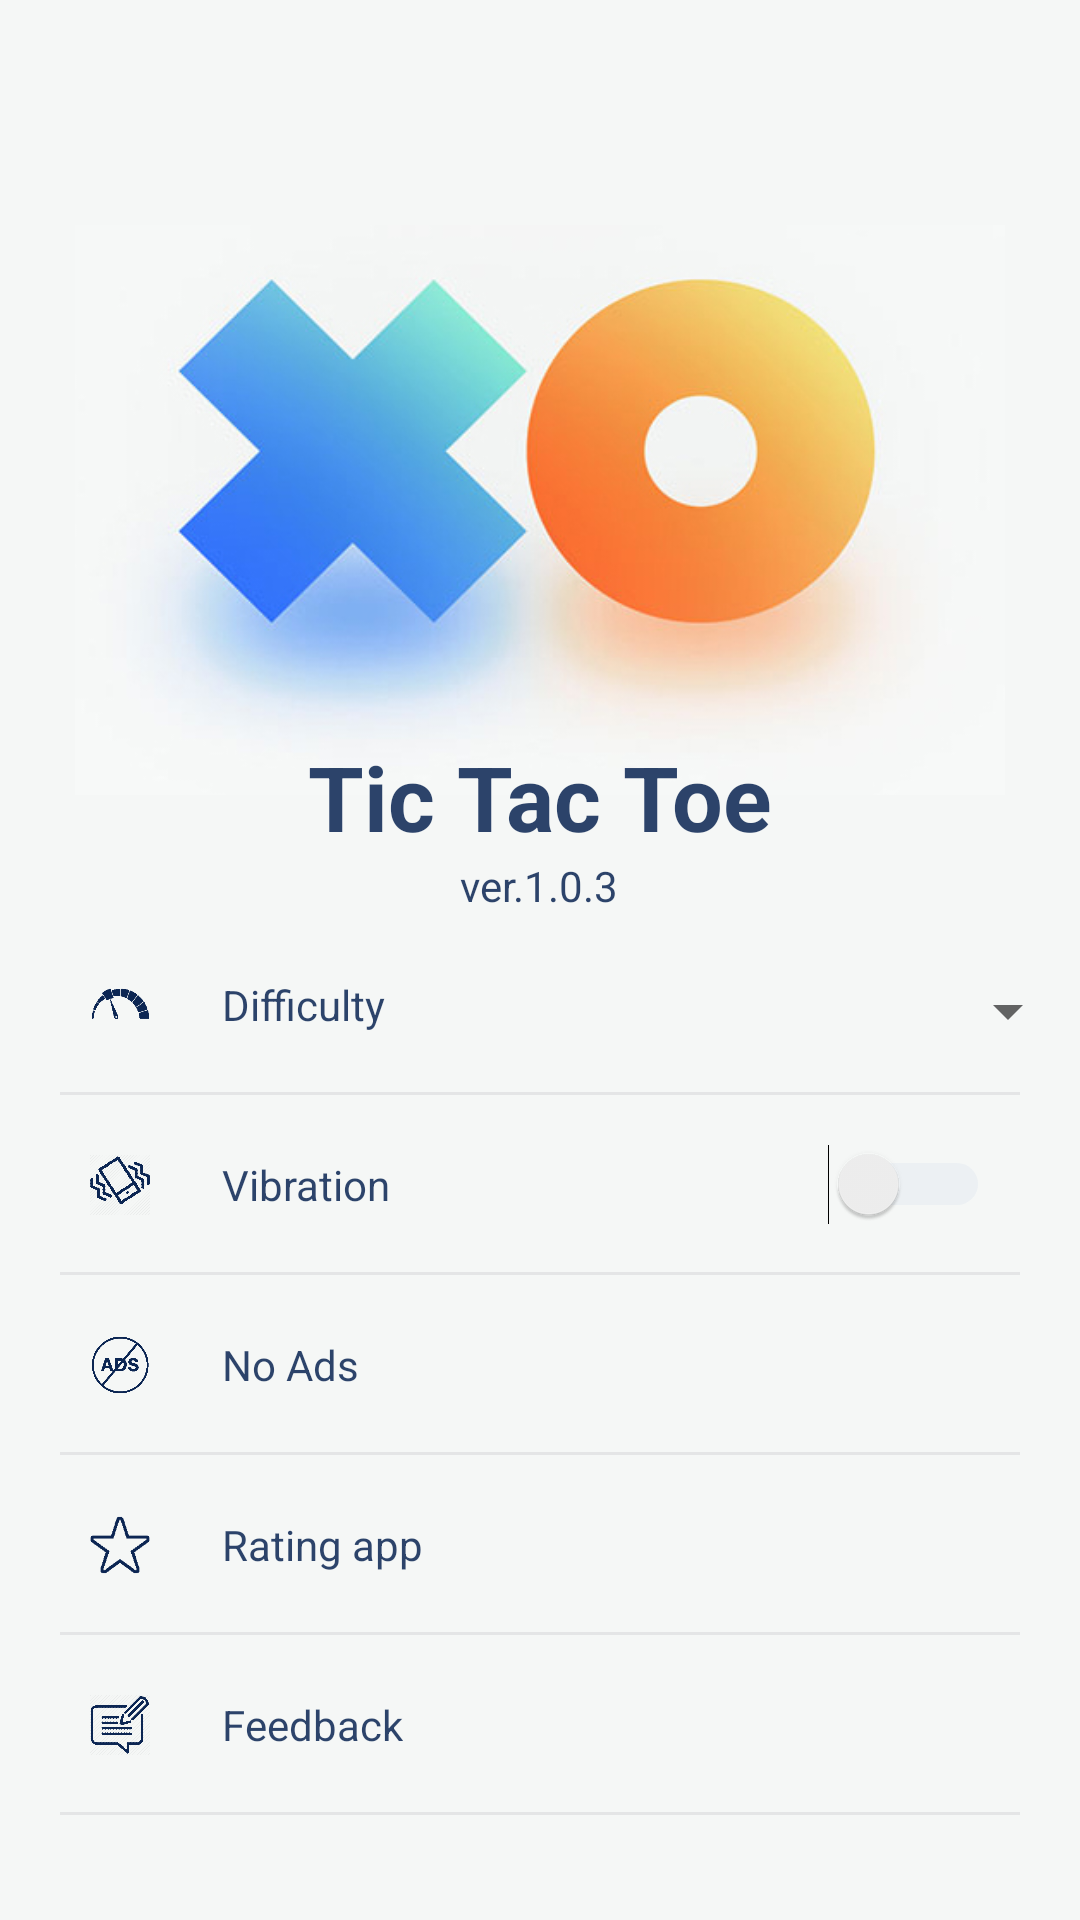

Where to tap for icons on this 1080x1920 app screen, as (x=x, y=y):
star: (x=120, y=1545)
